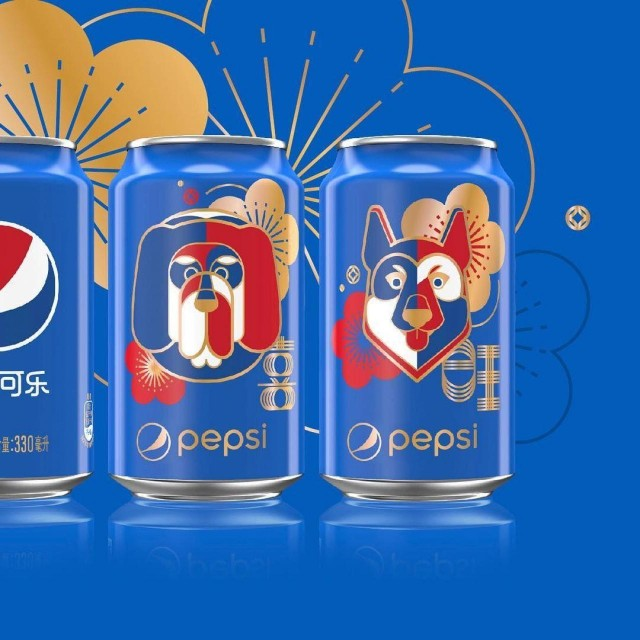pepsi: (0, 220, 62, 349)
